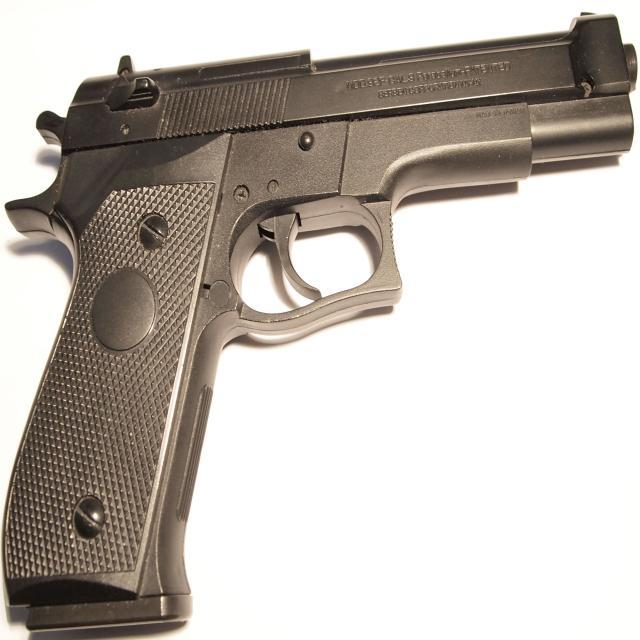Pistol: (5, 10, 640, 632)
